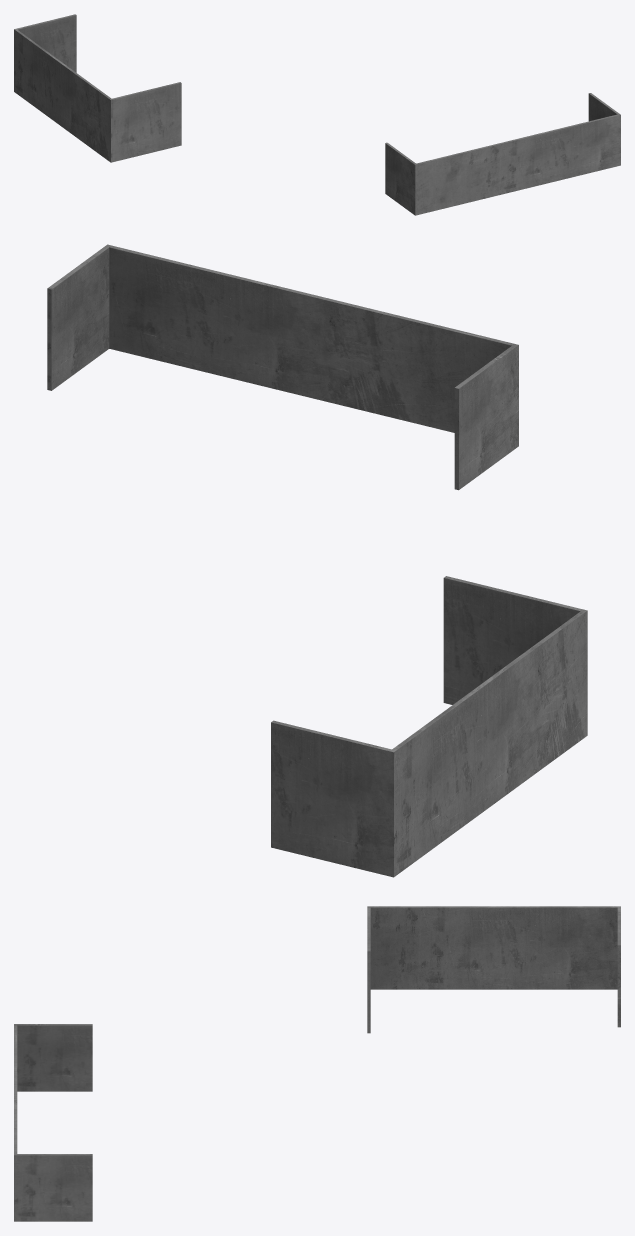
File: Inox_Kitchen_panel.fbx
3 views of the same model, one above another, from view 1: azimuth 30°, elevation 25°; view 2: azimuth 150°, elevation 25°; view 3: azimuth 270°, elevation 25° (orthographic). The views are drawn at different scales.
Parts seen in each view (by area): view 1: Inox_Kitchen_panel; view 2: Inox_Kitchen_panel; view 3: Inox_Kitchen_panel.
Part boxes in pixels (x1,y1,x2,y2): Inox_Kitchen_panel: [14, 14, 620, 215]; Inox_Kitchen_panel: [47, 244, 587, 877]; Inox_Kitchen_panel: [14, 906, 620, 1221].
Size of the model in its own units: 3.46 by 0.5522 by 3.71.
